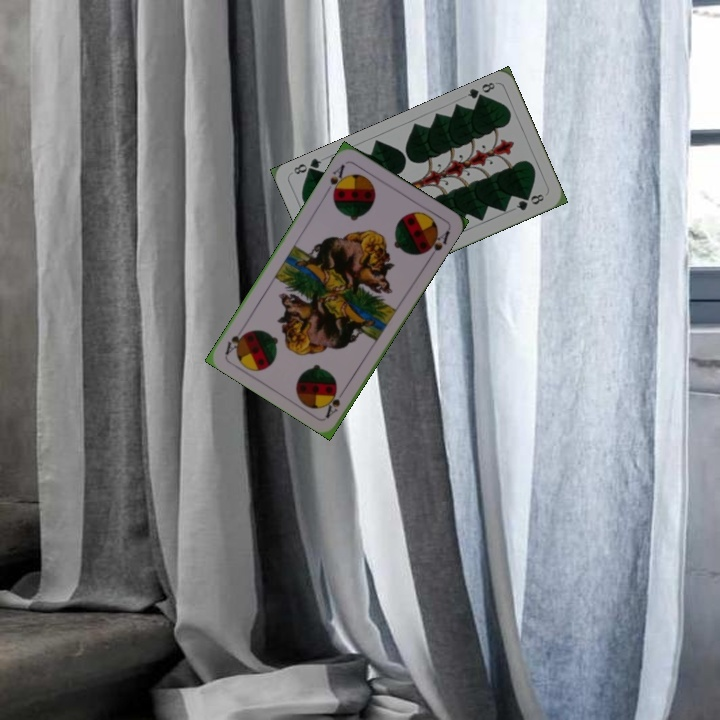G8: (463, 78, 498, 105)
SA: (326, 160, 349, 199), (321, 386, 343, 420)
